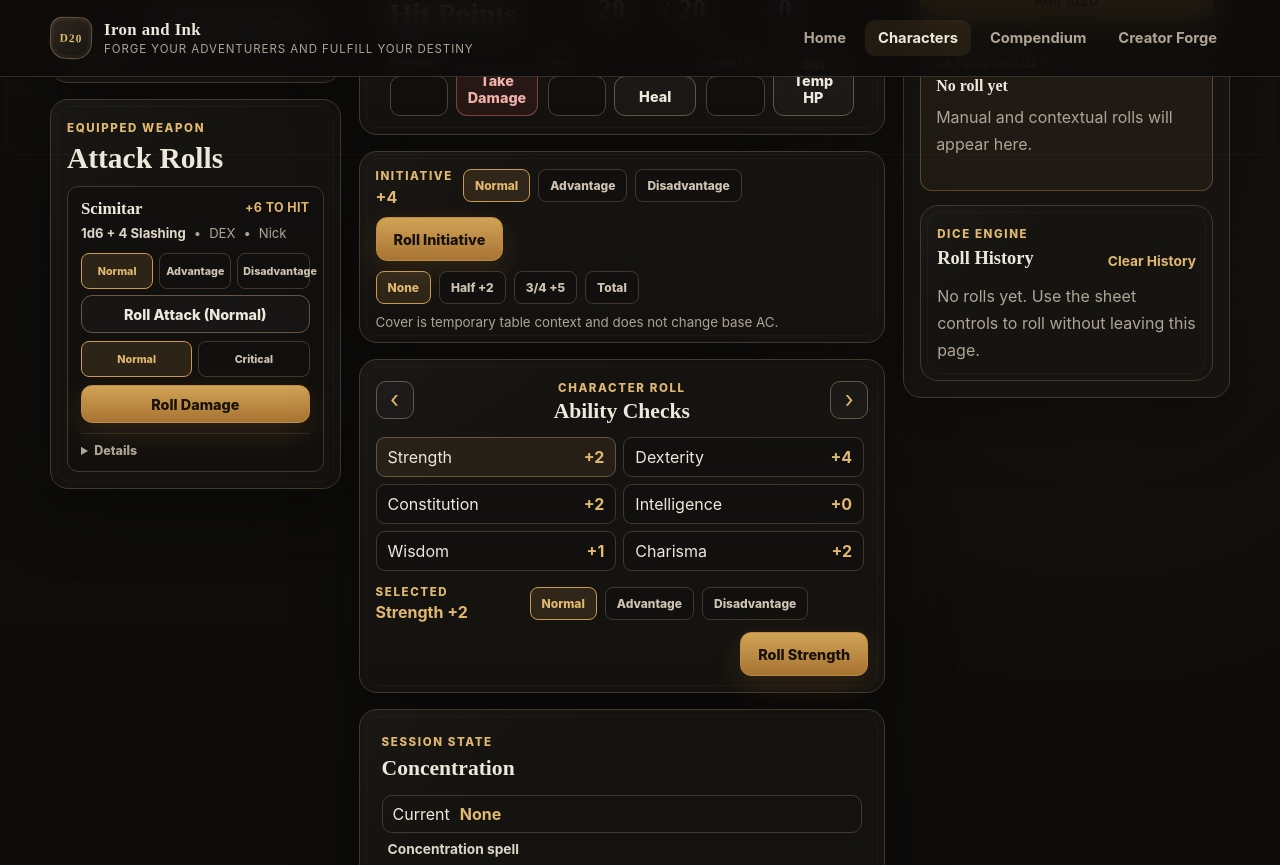
Test: PLAY dashboard Attack Rolls › D keeps one equipped weapon compact while preserving authoritative attack/damage reference and Details
(page scrolled)
Expected: the element "Attack Rolls" is shown, [50,99,340,489]
Expected: the heading "Scimitar" is shown, [81,200,142,218]
Click the heading "Details".
click(116, 451)  # box [94,443,137,458]
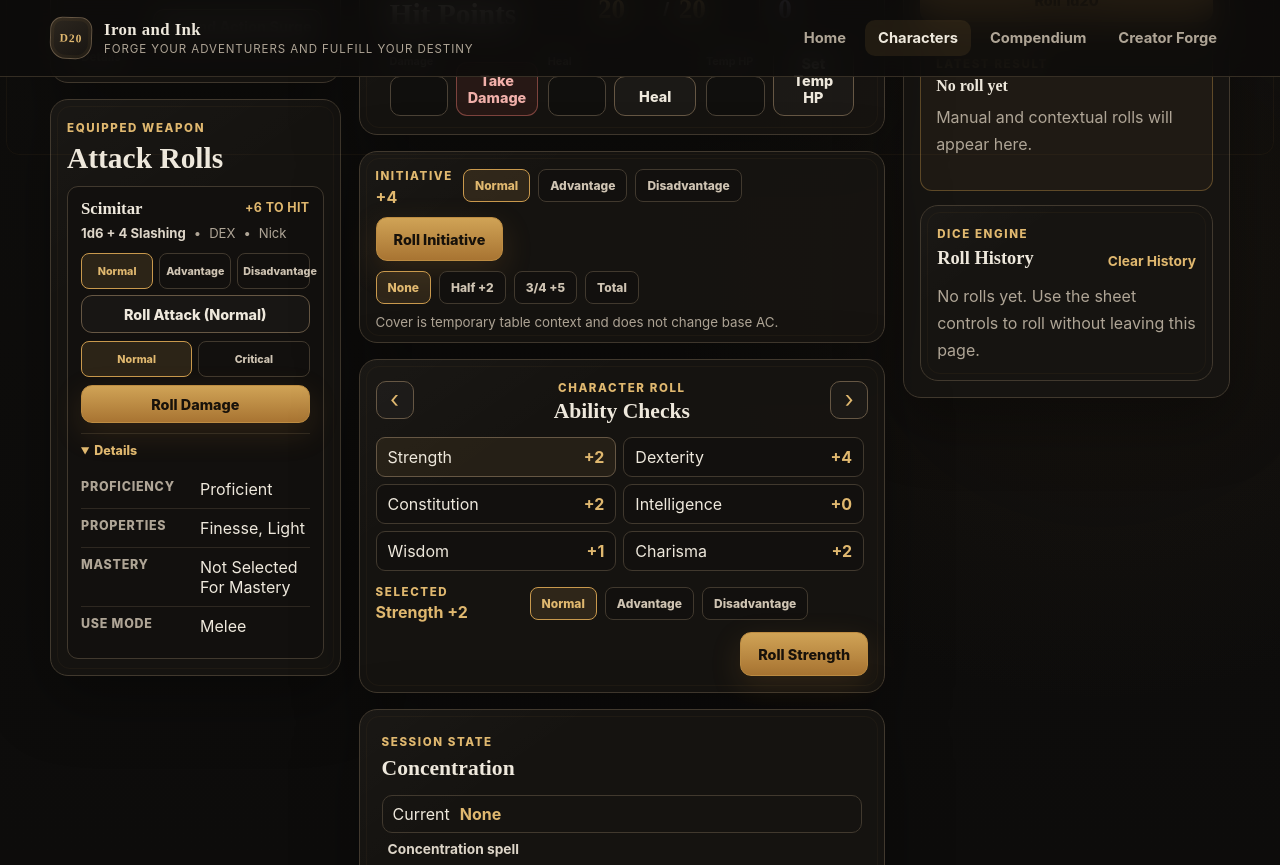
Expected: the text "Proficient" is shown, [200,479,272,499]
Expected: the text "Finesse, Light" is shown, [200,518,310,538]
Expected: the text "Mastery" is shown, [81,557,149,572]
